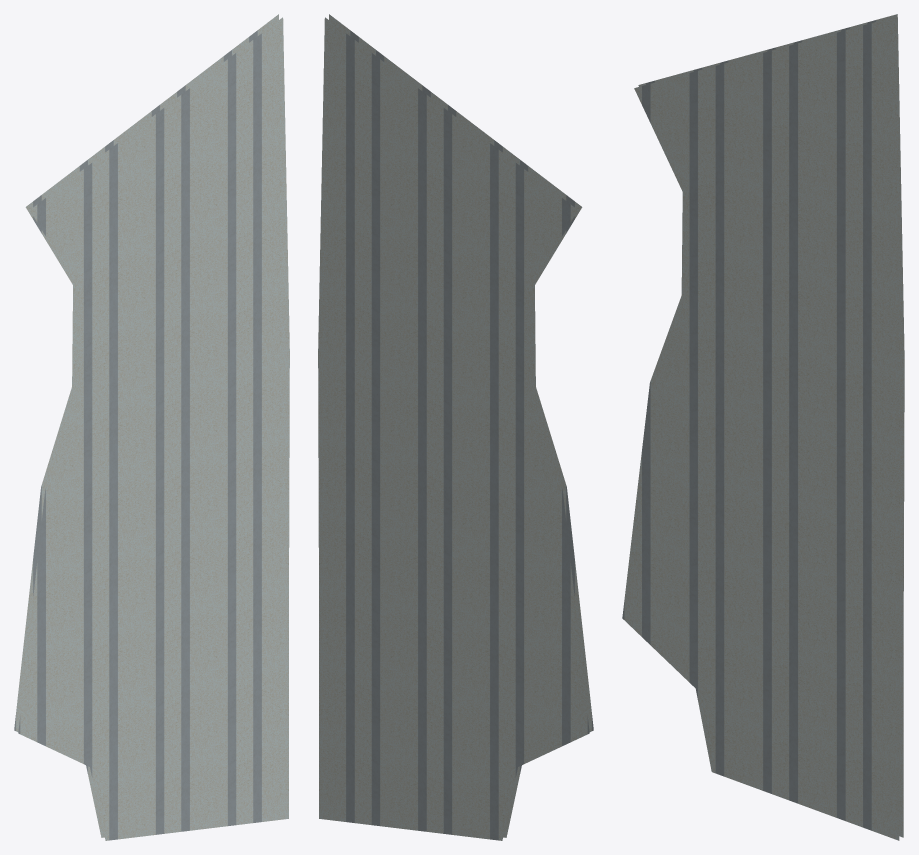
File: floor_58.obj
3 renders of one model, left to right at view 1: azimuth 30°, elevation 25°; view 2: azimuth 150°, elevation 25°; view 3: azimuth 330°, elevation 25°, orthographic. The views are drawn at different scales.
Parts seen in each view (by area): view 1: floor_58; view 2: floor_58; view 3: floor_58.
Boxes of the visible parts, left/top/right/bottom form: floor_58: left=14, top=14, right=289, bottom=840; floor_58: left=318, top=14, right=593, bottom=840; floor_58: left=622, top=14, right=904, bottom=840.
Size of the model in its own units: 3.77 by 10.66 by 0.1.
1 material, 1 textured.
